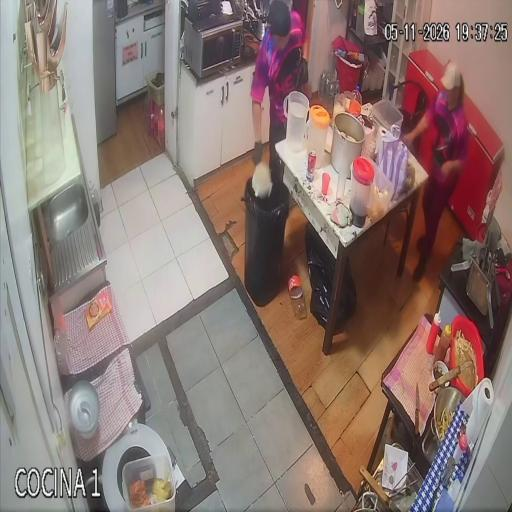Basurero: (244, 179, 288, 306)
Cuchillo1: (415, 382, 420, 434)
Envase Ketchup: (427, 313, 440, 354)
Envase Llajua: (434, 325, 451, 362)
Jarra1: (350, 157, 375, 227)
Jarra2: (306, 105, 330, 168)
Jarra3: (283, 91, 309, 152)
Microondas: (183, 18, 242, 77)
Persona1: (251, 0, 303, 166)
Persona2: (406, 63, 469, 278)
Tapa de olla: (68, 381, 100, 439)
Taper: (122, 454, 176, 512)
Taper2: (372, 100, 403, 131)
Taper4: (368, 168, 393, 221)
Vaso1: (322, 173, 330, 197)
botella: (345, 89, 362, 117)
olla1: (330, 112, 365, 179)
